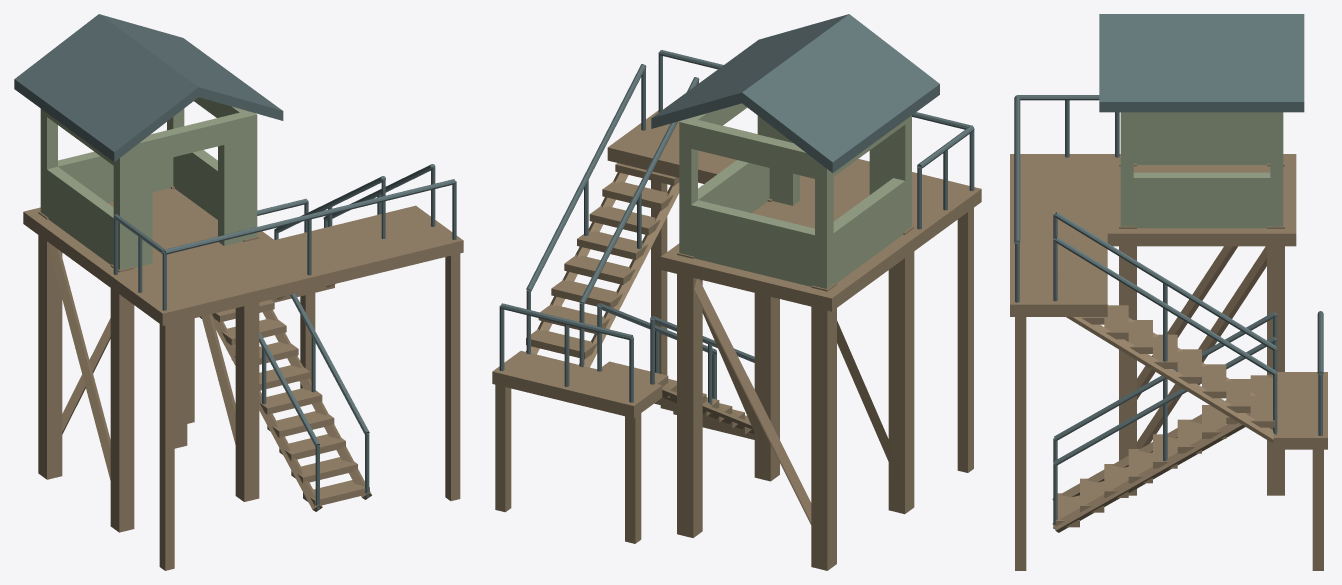
3 views of the same model, side by side, from view 1: azimuth 30°, elevation 25°; view 2: azimuth 150°, elevation 25°; view 3: azimuth 270°, elevation 25° (orthographic). The views are drawn at different scales.
Parts seen in each view (by area): view 1: WholeWindowedCabinWithFrontEntry, WholeThickPitchedRoof, WholeTopEntryLanding, WholeCabinPlatform, MainFootPost_-0.91_-0.91, MainFootPost_-0.91_0.91, MainFootPost_0.91_-0.91, LandingWholeSupport_-1.02_-2.23, LandingWholeSupport_3.14_-2.23, SideWholeDiagonal_-1, LandingWholeRail_Front, MainFootPost_0.91_0.91 (+16 smaller); view 2: WholeWindowedCabinWithFrontEntry, WholeThickPitchedRoof, WholeTopEntryLanding, WholeCabinPlatform, MainFootPost_-0.91_0.91, MainFootPost_0.91_0.91, MainFootPost_-0.91_-0.91, WholeMidTurnLanding, LandingWholeSupport_-1.02_-2.23, MainFootPost_0.91_-0.91, RearWholeDiagonal, LandingWholeSupport_1.38_1.43 (+19 smaller); view 3: WholeThickPitchedRoof, WholeWindowedCabinWithFrontEntry, WholeTopEntryLanding, WholeCabinPlatform, WholeMidTurnLanding, LandingWholeSupport_3.14_-2.23, MainFootPost_0.91_0.91, MainFootPost_0.91_-0.91, WholeStringer_1_3.1, WholeStringer_0_2.14, SideWholeDiagonal_1, WholeStairHandrail_1_3.1 (+24 smaller).
Part boxes in pixels (box(x1,y1,x2,y2)): WholeWindowedCabinWithFrontEntry: box(40, 97, 257, 269); WholeThickPitchedRoof: box(14, 14, 283, 162); WholeTopEntryLanding: box(115, 205, 463, 325); WholeCabinPlatform: box(23, 188, 273, 290); MainFootPost_-0.91_-0.91: box(110, 264, 134, 532); MainFootPost_-0.91_0.91: box(38, 211, 62, 479); MainFootPost_0.91_-0.91: box(235, 236, 259, 501); LandingWholeSupport_-1.02_-2.23: box(159, 323, 174, 570); LandingWholeSupport_3.14_-2.23: box(445, 253, 460, 500); SideWholeDiagonal_-1: box(49, 244, 110, 480); LandingWholeRail_Front: box(164, 179, 455, 254); MainFootPost_0.91_0.91: box(170, 186, 187, 448); WholeWindowedCabinWithFrontEntry: box(679, 103, 911, 288); WholeThickPitchedRoof: box(651, 14, 939, 172); WholeTopEntryLanding: box(607, 110, 981, 238); WholeCabinPlatform: box(660, 194, 930, 311); MainFootPost_-0.91_0.91: box(811, 283, 836, 570); MainFootPost_0.91_0.91: box(677, 252, 702, 537); MainFootPost_-0.91_-0.91: box(888, 226, 914, 514); WholeMidTurnLanding: box(492, 351, 662, 418); LandingWholeSupport_-1.02_-2.23: box(957, 208, 973, 472); MainFootPost_0.91_-0.91: box(754, 198, 779, 481); RearWholeDiagonal: box(694, 279, 811, 524); LandingWholeSupport_1.38_1.43: box(625, 413, 641, 543); WholeThickPitchedRoof: box(1099, 14, 1304, 112); WholeWindowedCabinWithFrontEntry: box(1120, 112, 1283, 228); WholeTopEntryLanding: box(1010, 154, 1107, 316); WholeCabinPlatform: box(1107, 154, 1296, 246); WholeMidTurnLanding: box(1273, 372, 1327, 449); LandingWholeSupport_3.14_-2.23: box(1015, 317, 1026, 570); MainFootPost_0.91_0.91: box(1267, 220, 1284, 495); MainFootPost_0.91_-0.91: box(1119, 220, 1136, 495); WholeStringer_1_3.1: box(1058, 299, 1278, 442); WholeStringer_0_2.14: box(1052, 413, 1250, 532); SideWholeDiagonal_1: box(1137, 246, 1266, 448); WholeStairHandrail_1_3.1: box(1054, 237, 1276, 375).
Size of the model in its own units: 4.45 by 6.06 by 3.91.
